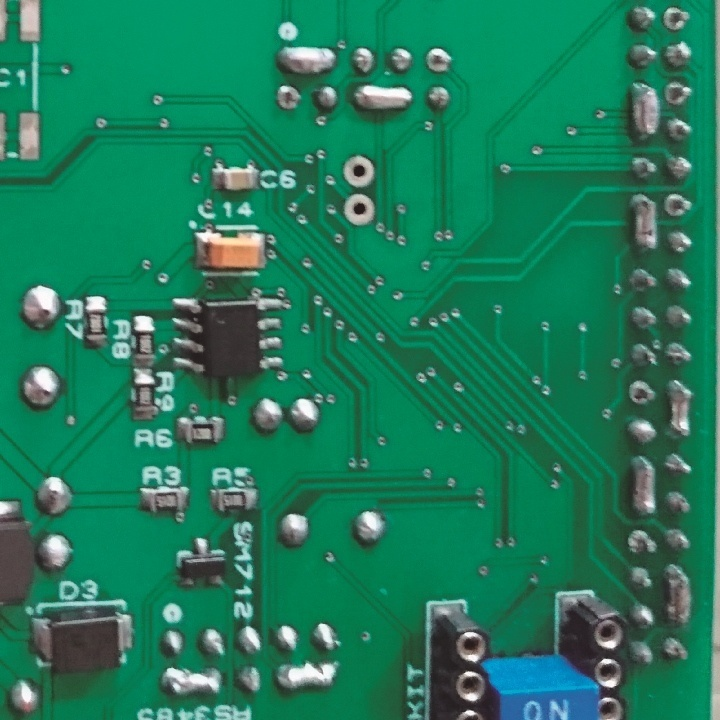F: (341, 189, 377, 231), (341, 154, 375, 188), (626, 378, 659, 408), (626, 528, 657, 559), (423, 46, 454, 77), (663, 190, 693, 220), (664, 78, 691, 111), (274, 84, 301, 115), (662, 5, 690, 32)
P: (625, 453, 659, 520), (159, 665, 224, 700), (273, 659, 337, 693), (663, 376, 695, 443), (663, 561, 694, 630), (627, 79, 659, 144), (276, 42, 336, 75), (353, 81, 414, 112), (630, 191, 658, 256)
